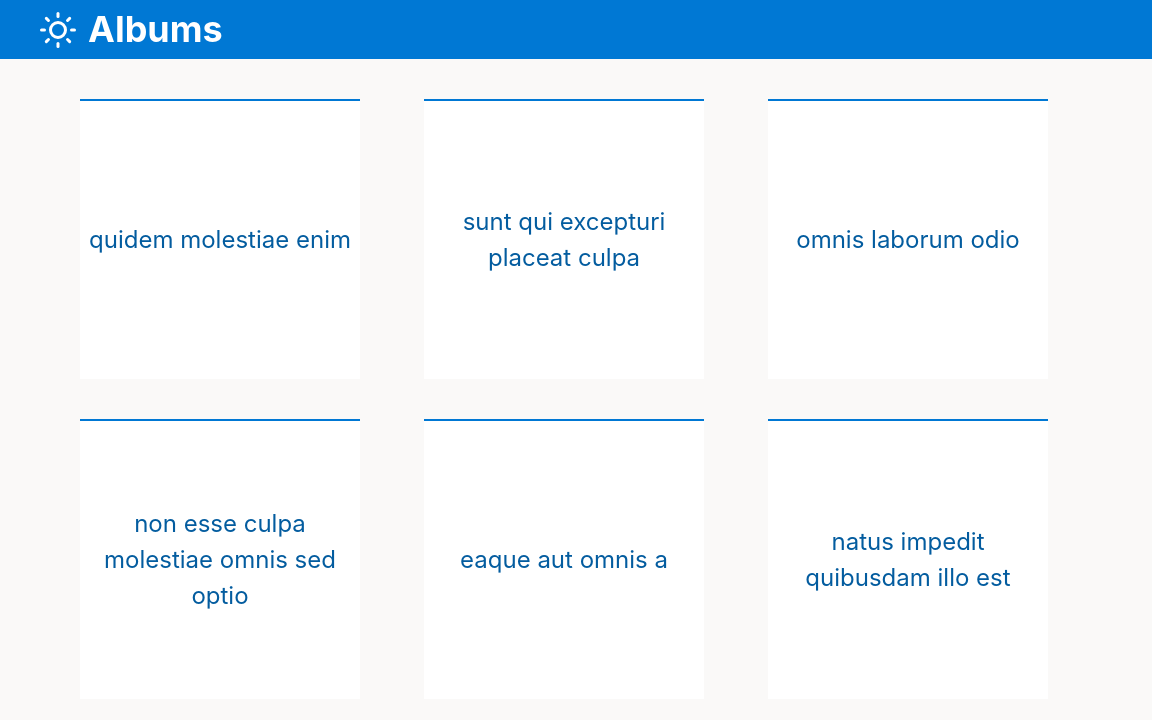
Test: Albums e2e › should take the user to the album page when album is clicked
The image size is (1152, 720).
Click the link "quidem molestiae enim" at (232, 239), box [80,99,384,379]
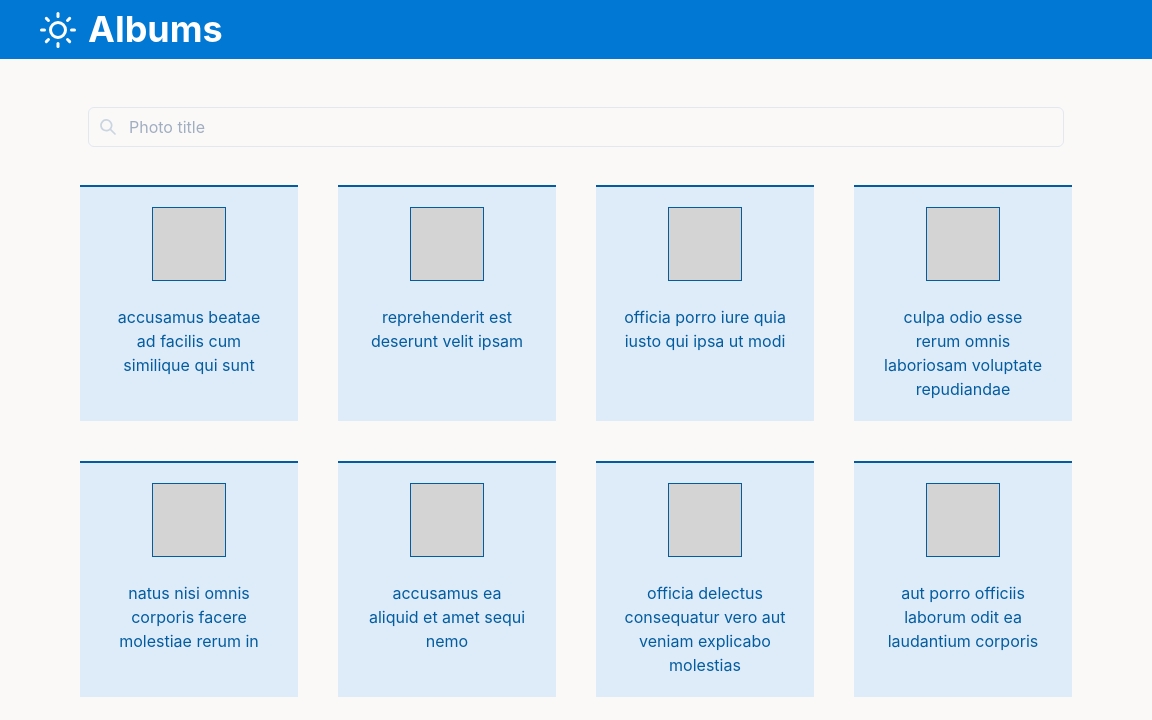
Expected: the number of pictures is 50
